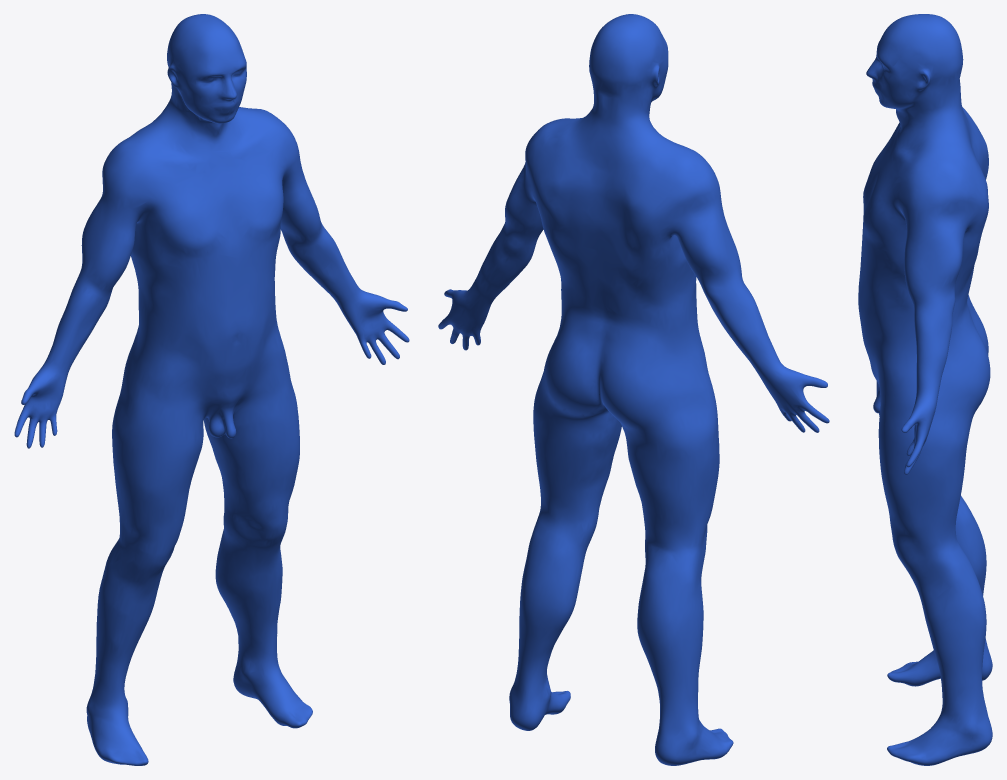
The model's file is skin.glb.
The picture shows the model from 3 angles, left to right: view 1: azimuth 30°, elevation 25°; view 2: azimuth 150°, elevation 25°; view 3: azimuth 270°, elevation 25°; orthographic projection. The views are drawn at different scales.
Parts seen in each view (by area): view 1: VH_M_skin; view 2: VH_M_skin; view 3: VH_M_skin.
Part boxes in pixels (left/top/right/bottom): VH_M_skin: left=14, top=14, right=409, bottom=765; VH_M_skin: left=438, top=14, right=829, bottom=765; VH_M_skin: left=858, top=14, right=992, bottom=765.
Size of the model in its own units: 1.05 by 1.83 by 0.3162.
